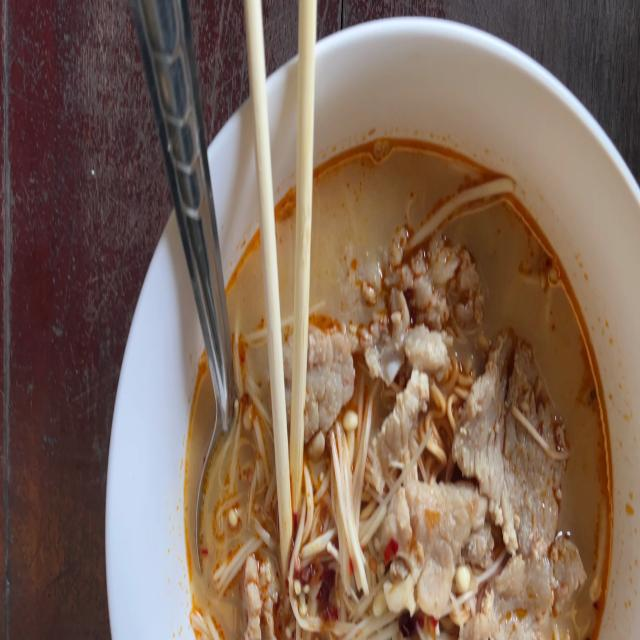noodle: (182, 131, 614, 640)
